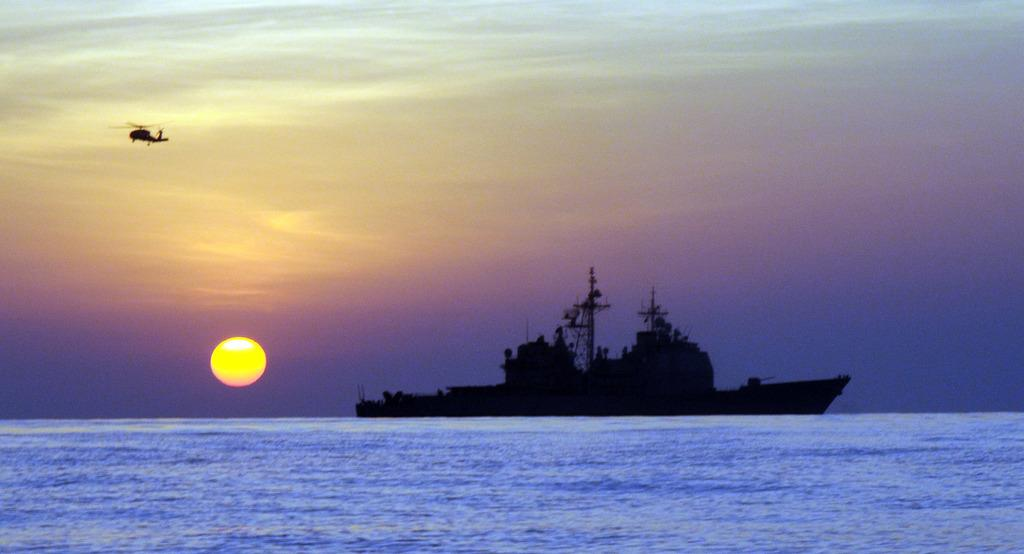Warship: (344, 284, 856, 420)
